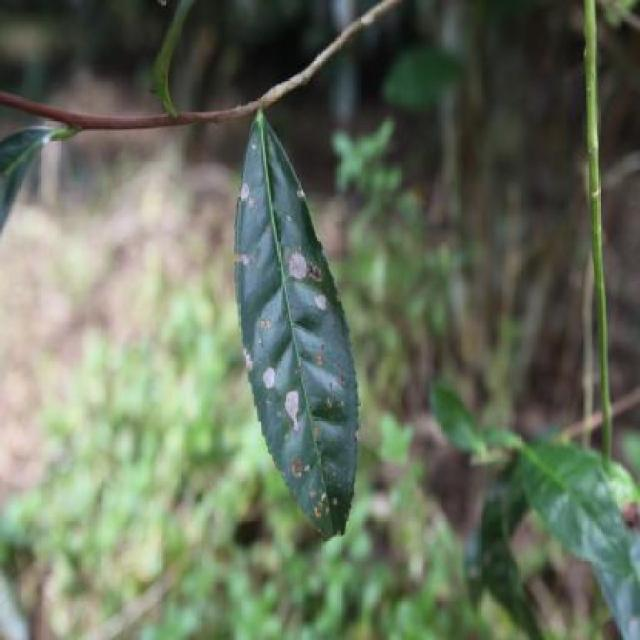Leaf rust of tea: (230, 103, 378, 546)
